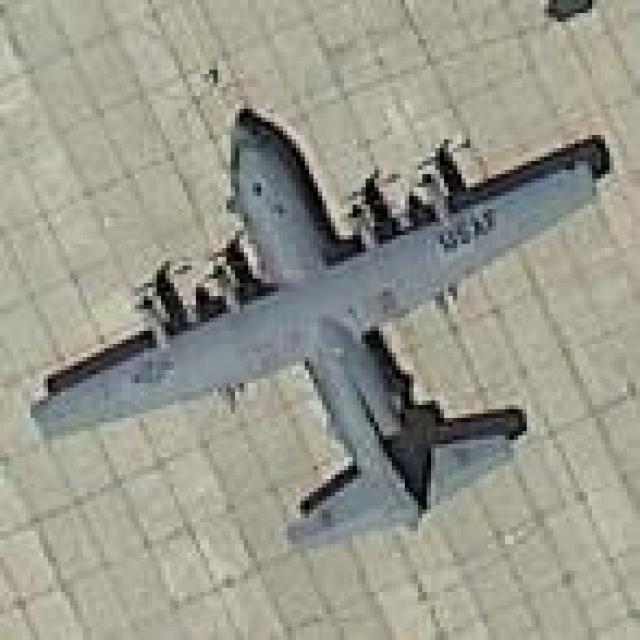C-130_TopDown: (27, 104, 607, 552)
